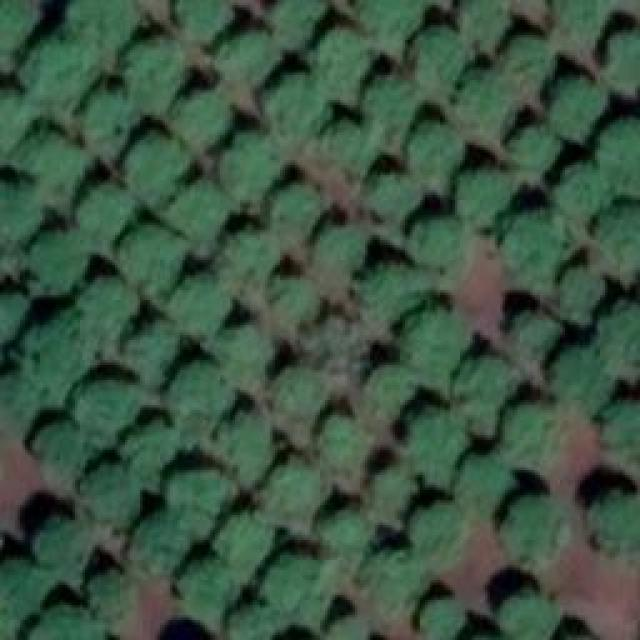Tree: (448, 355, 521, 433), (120, 35, 193, 105), (493, 207, 563, 275), (258, 550, 331, 615), (118, 230, 183, 298), (28, 230, 91, 295), (215, 135, 278, 200), (503, 493, 566, 558), (165, 360, 228, 425), (165, 468, 233, 528), (315, 30, 373, 100), (502, 402, 560, 470), (130, 135, 195, 195), (75, 183, 140, 243), (270, 80, 330, 143), (28, 325, 91, 385), (403, 120, 463, 183), (400, 305, 460, 368), (20, 40, 85, 98), (405, 502, 470, 560), (352, 263, 420, 318), (172, 188, 230, 248), (78, 462, 138, 520), (167, 275, 225, 335), (360, 70, 418, 130), (365, 547, 425, 605), (215, 408, 273, 468), (125, 518, 183, 578), (455, 453, 510, 516), (453, 168, 516, 223), (173, 563, 238, 616), (220, 35, 278, 93), (262, 457, 320, 515), (412, 410, 470, 468), (73, 380, 136, 433), (453, 68, 508, 128), (585, 483, 640, 543), (82, 88, 140, 143), (313, 415, 368, 473), (28, 130, 81, 190), (405, 25, 465, 78), (405, 215, 468, 265), (120, 417, 173, 475), (545, 75, 603, 128), (212, 513, 270, 566), (83, 285, 138, 340), (70, 0, 133, 48), (123, 315, 178, 368), (315, 123, 373, 173), (590, 200, 640, 258), (267, 0, 322, 52), (218, 325, 268, 378), (555, 165, 608, 215), (225, 225, 280, 273), (365, 0, 418, 48), (265, 275, 318, 323), (365, 172, 418, 220), (173, 0, 236, 40), (553, 348, 603, 398), (185, 98, 233, 148), (35, 517, 85, 565), (0, 180, 42, 237), (315, 225, 368, 270), (500, 593, 553, 638), (275, 367, 323, 415), (0, 380, 45, 430), (38, 423, 88, 468), (273, 183, 323, 228), (360, 363, 410, 408), (505, 128, 555, 173), (505, 35, 550, 83), (315, 508, 365, 551), (458, 0, 511, 40), (600, 120, 640, 173), (600, 303, 640, 356), (0, 560, 38, 615), (510, 310, 558, 353), (222, 605, 280, 640), (558, 268, 603, 311), (0, 88, 35, 143), (602, 30, 640, 80), (0, 0, 42, 45), (35, 607, 90, 640), (553, 0, 603, 35), (607, 399, 640, 452), (423, 595, 466, 635), (370, 470, 410, 513), (0, 290, 30, 340)
